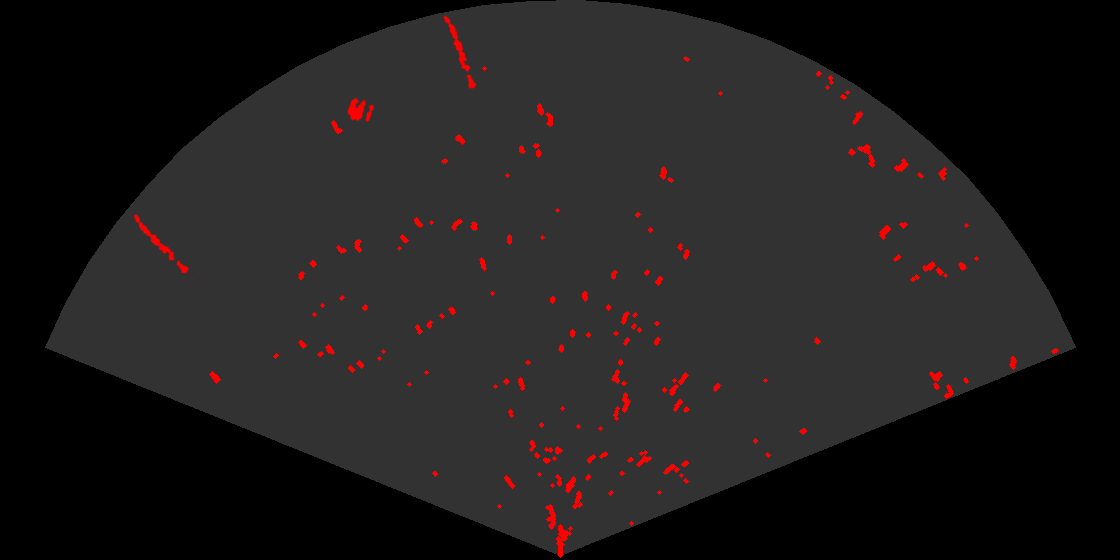ball: (346, 96, 376, 124)
chain: (132, 213, 194, 282), (442, 14, 478, 91)
